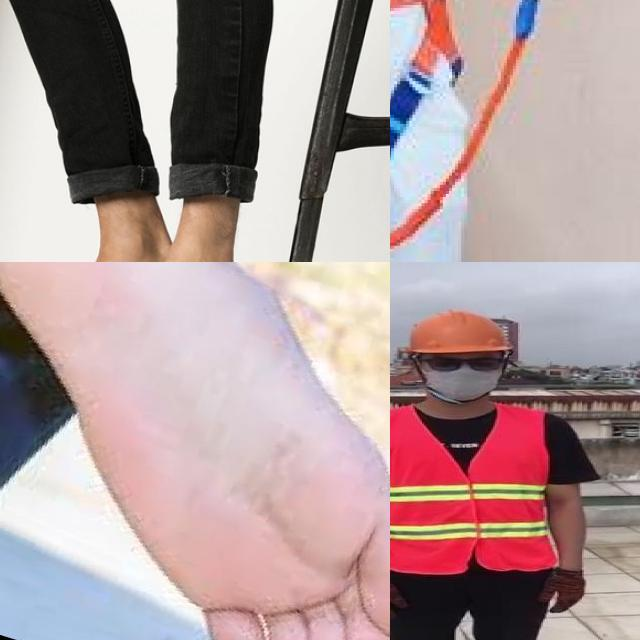Barefoots: (0, 262, 390, 640)
Harness: (390, 0, 470, 251)
head_helmet: (400, 308, 525, 359)
person: (390, 299, 618, 640)
vest: (390, 407, 553, 571)
